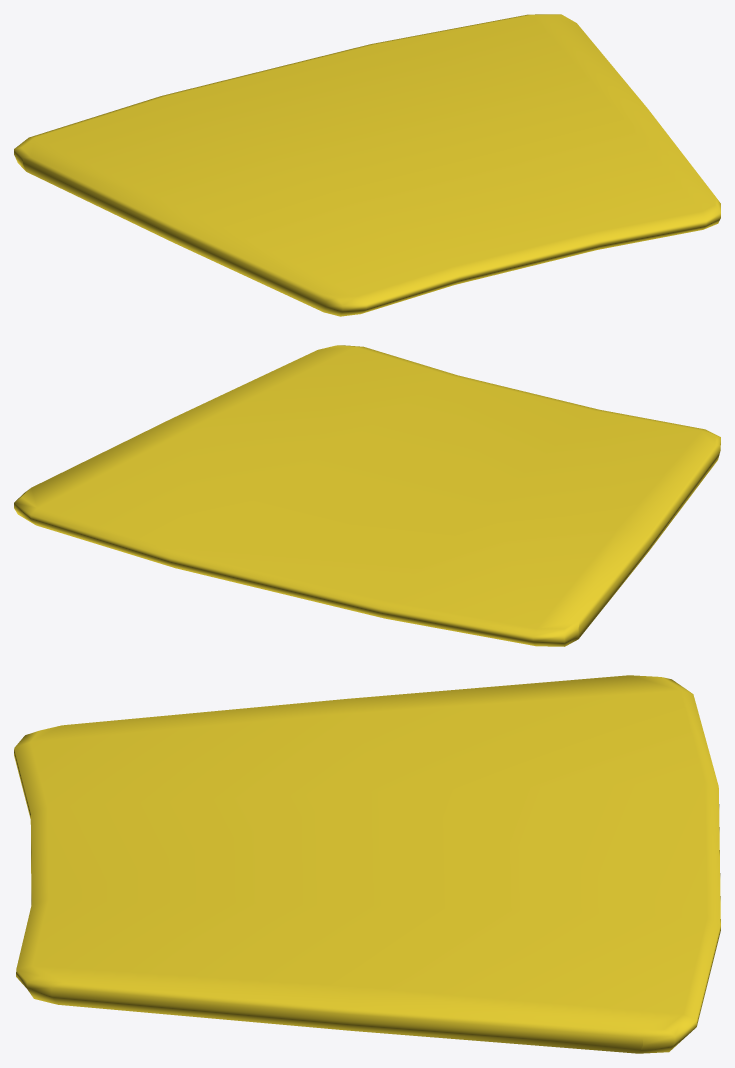
File: 2_SPAWN_POINT.fbx
The picture shows the model from 3 angles, top to bottom: view 1: azimuth 30°, elevation 25°; view 2: azimuth 150°, elevation 25°; view 3: azimuth 270°, elevation 25°; orthographic projection. The views are drawn at different scales.
Parts seen in each view (by area): view 1: Cube; view 2: Cube; view 3: Cube.
Part boxes in pixels (x1,y1,x2,y2): Cube: (14,14,720,316); Cube: (14,345,720,646); Cube: (14,675,720,1053).
Size of the model in its own units: 313 by 10.55 by 259.
